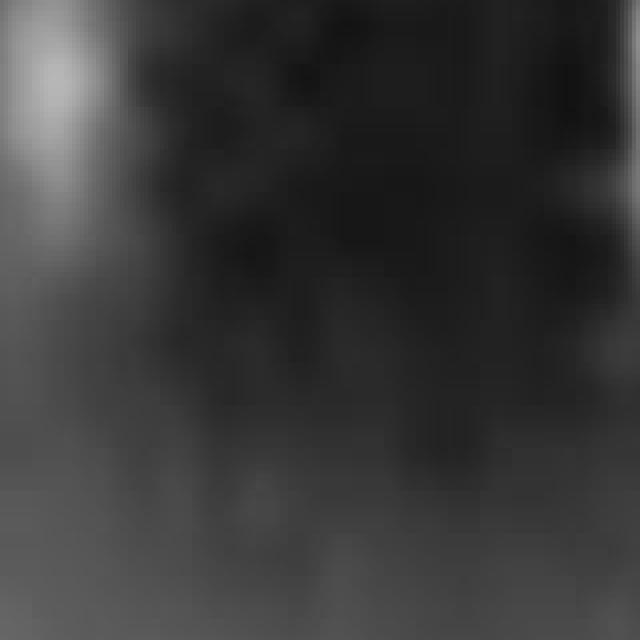person: (1, 1, 169, 300)
